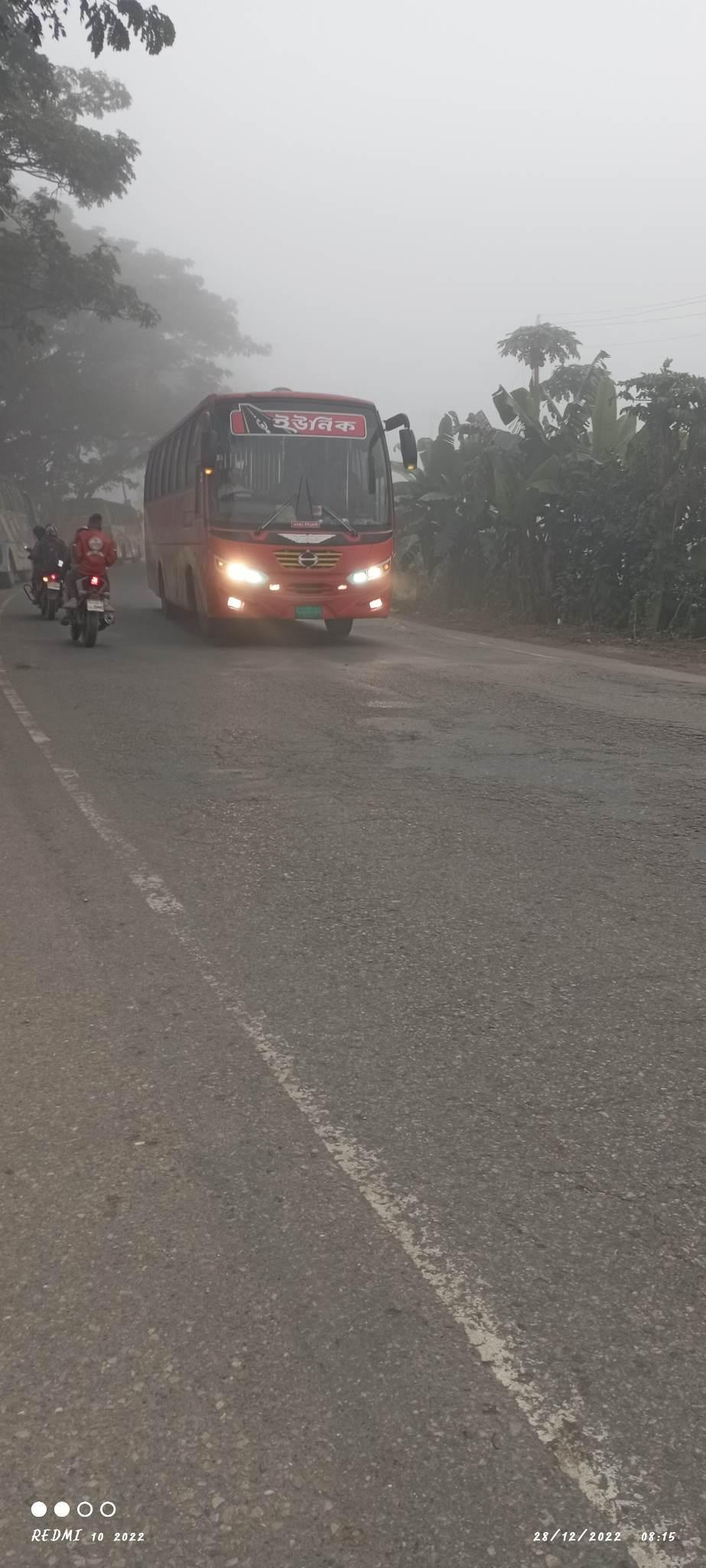Bike: (63, 507, 135, 663), (19, 510, 73, 631)
Bus: (139, 365, 432, 653)
